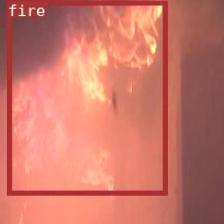fire: (6, 0, 167, 195)
